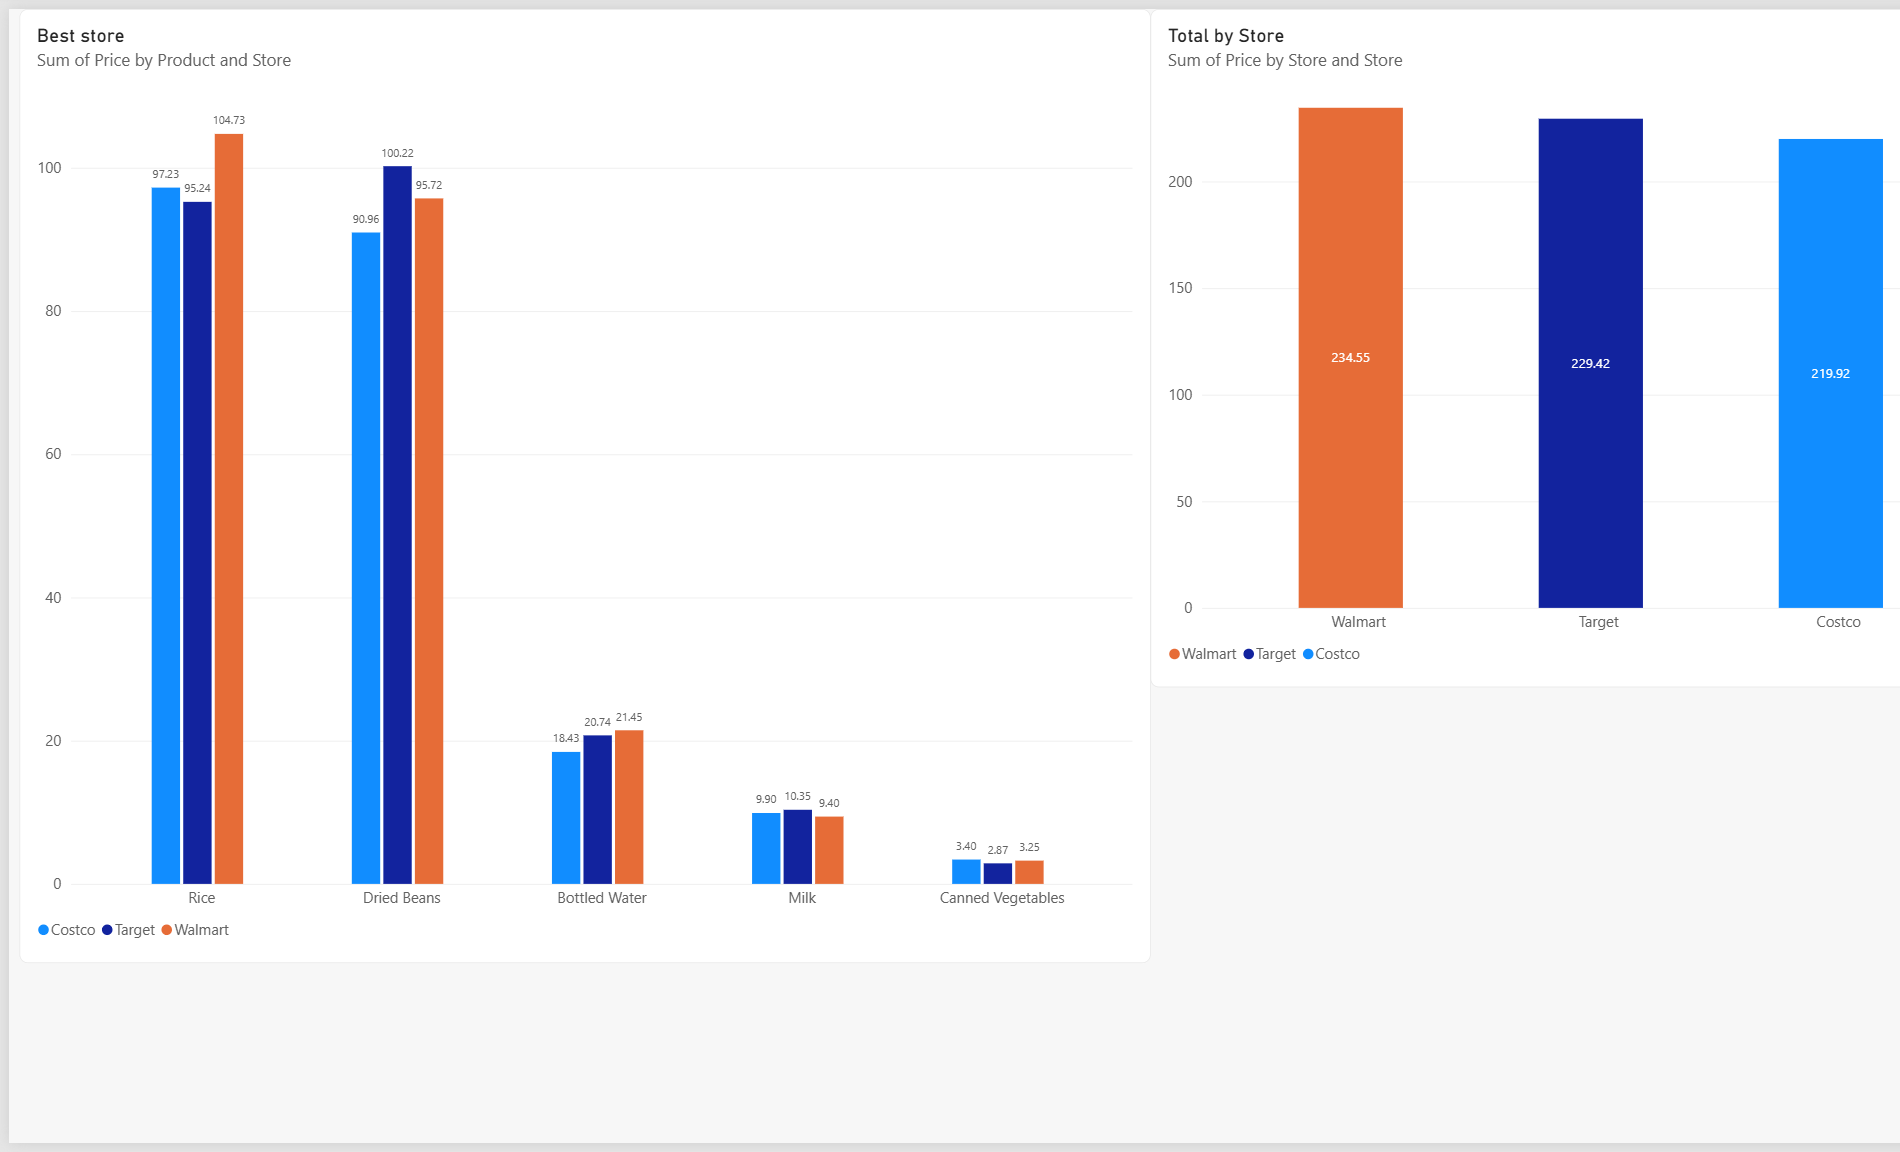

This screenshot's page, from the dashboard's own definition file:
{"tool":"powerbi","page":{"name":"Page 1","canvas":[1920,1080],"ordinal":0},"visuals":[{"type":"clusteredColumnChart","title":"Best store ","fields":{"Category":["Sheet1.Product"],"Series":["Sheet1.Store"],"Y":["Sum(Sheet1.Price)"]},"box":[10,0,1077.1,908.6],"z":0},{"type":"columnChart","title":"Total by Store ","fields":{"Category":["Sheet1.Store"],"Series":["Sheet1.Store"],"Y":["Sum(Sheet1.Price)"]},"box":[1087.1,0,821.4,645.7],"z":1000}]}

Visuals, with their boxes on the page's 1920x1080 design canvas (x1, y1, x2, y2). These are canvas units, not pixel positions in the 1900x1152 screenshot, which may show the page scaled, cropped or inside an application window:
"Best store " clusteredColumnChart: 10 0 1087 909
"Total by Store " columnChart: 1087 0 1908 646
